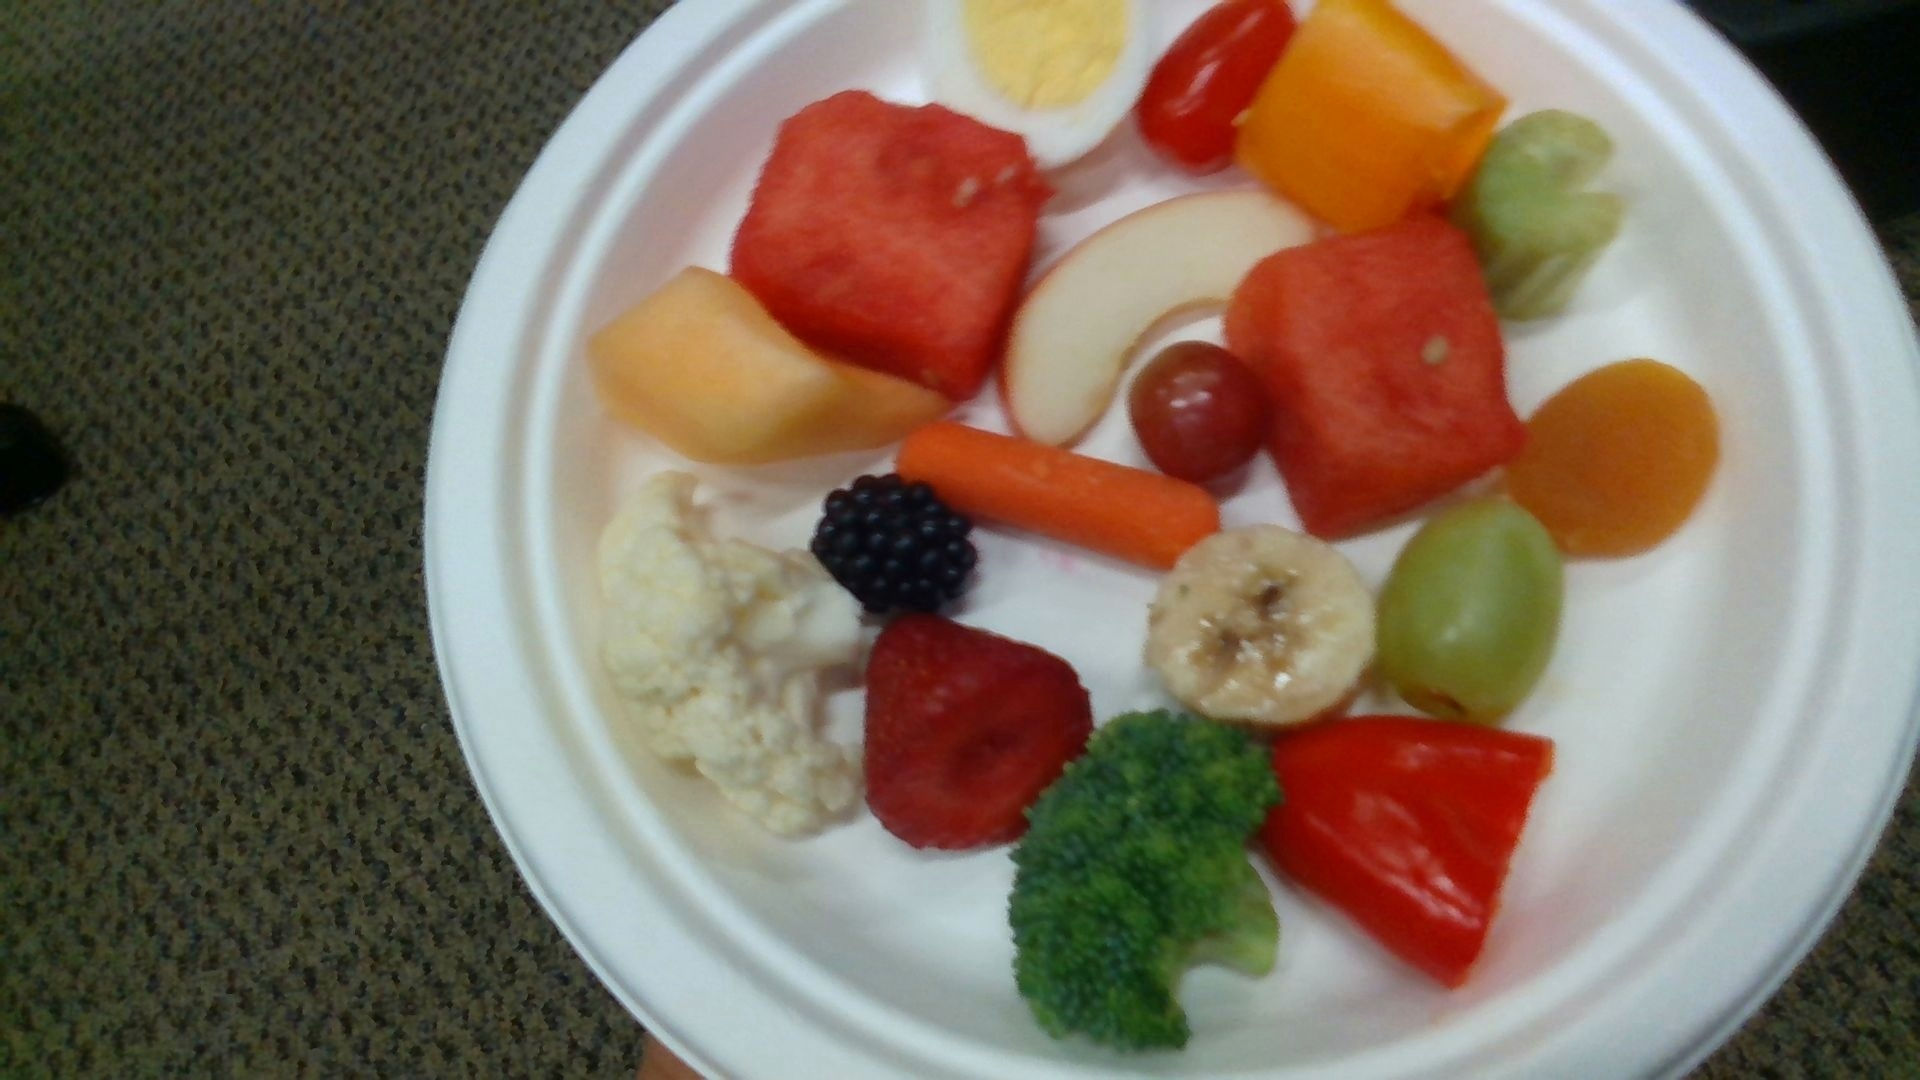apple: (1002, 189, 1312, 443)
apricot: (1509, 356, 1720, 563)
banana: (1147, 527, 1377, 725)
bell_pepper: (1240, 716, 1549, 986), (1233, 1, 1505, 235)
blackberry: (815, 473, 975, 616)
broccoli: (1014, 715, 1276, 1044)
cantalope: (585, 270, 945, 463)
carrot: (897, 419, 1218, 571)
cauliflower: (597, 473, 872, 836)
celery: (1472, 109, 1617, 315)
cherry_tomato: (1134, 1, 1294, 173)
egg: (920, 1, 1164, 166)
grape_green: (1379, 500, 1564, 721)
grape_purple: (1130, 345, 1269, 476)
melon: (735, 91, 1054, 396), (1230, 211, 1524, 535)
strawberry: (866, 618, 1092, 851)
